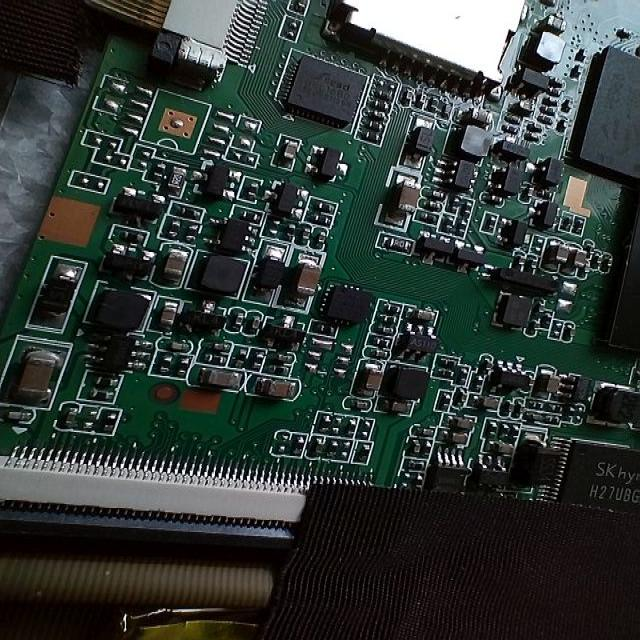capacitor: (192, 360, 250, 404), (254, 373, 305, 414), (384, 165, 416, 225)
resistor: (350, 122, 389, 147)
